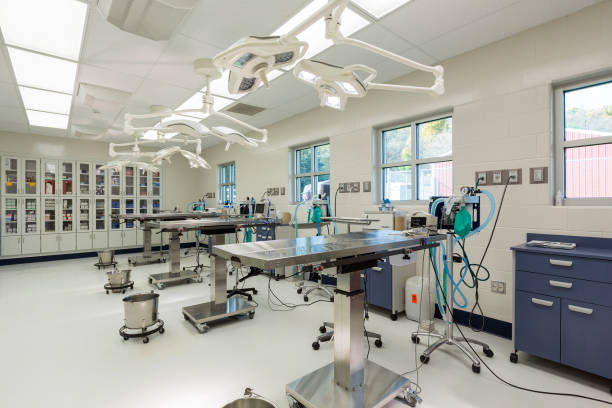bedside_monitor: (410, 215, 434, 233), (238, 205, 253, 215), (253, 205, 268, 214)
cabinet: (7, 154, 166, 258)
exam_table: (140, 211, 204, 266)
handle: (547, 258, 573, 268), (530, 298, 555, 308), (568, 304, 593, 314), (548, 280, 573, 289), (371, 267, 384, 275), (22, 189, 25, 197), (19, 189, 22, 197), (23, 237, 26, 245), (151, 192, 154, 199), (148, 193, 151, 200), (19, 199, 22, 206), (60, 199, 63, 205), (59, 190, 62, 196), (57, 199, 60, 205), (56, 235, 59, 241), (56, 190, 59, 196), (61, 235, 64, 241), (121, 192, 124, 198), (124, 192, 127, 198), (124, 232, 127, 238), (121, 232, 124, 238), (94, 233, 97, 239), (94, 199, 97, 205), (94, 190, 97, 196), (90, 190, 93, 196), (23, 199, 26, 205), (90, 234, 93, 240), (19, 237, 21, 245), (90, 200, 93, 205)
medical_drawer: (510, 234, 612, 383)
operating_bed: (212, 228, 447, 408), (160, 218, 280, 331)
surgical_light: (212, 36, 308, 94), (293, 59, 368, 111), (211, 129, 260, 157), (98, 157, 159, 178), (163, 121, 212, 141)
waste_bin: (118, 291, 165, 343), (223, 386, 290, 407), (104, 269, 134, 294), (95, 248, 119, 270)
